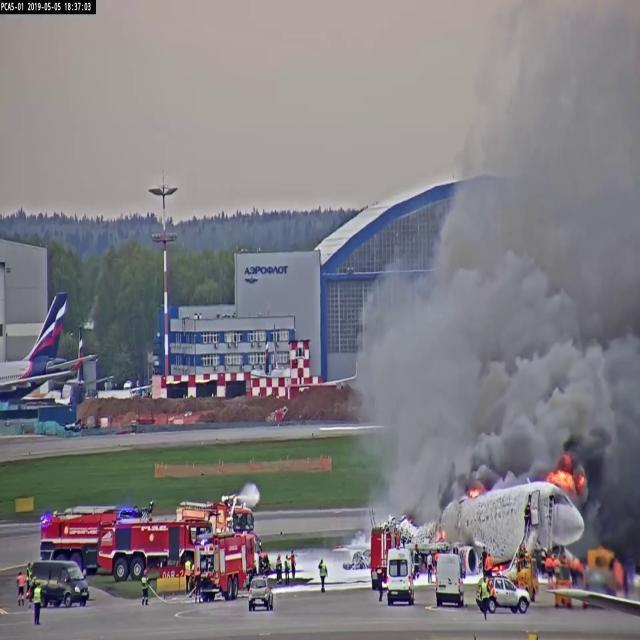Fire: (552, 458, 583, 495)
Smoke: (486, 0, 640, 330), (442, 186, 543, 458), (372, 251, 469, 496), (515, 351, 640, 453)
